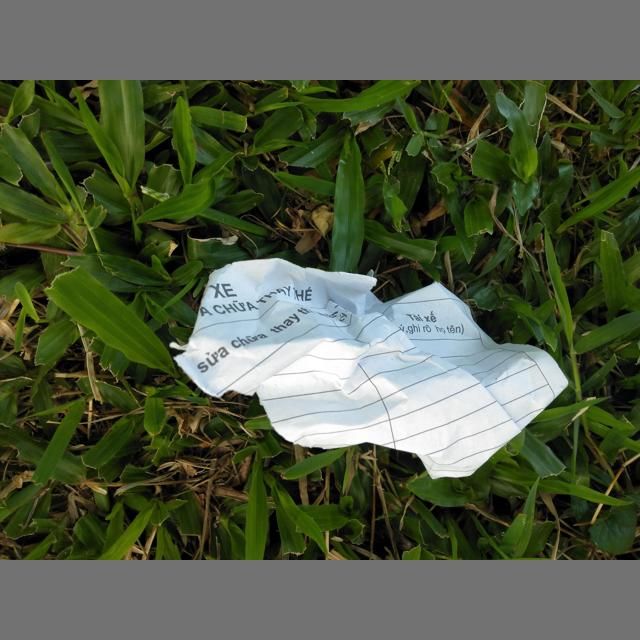litter: (174, 260, 567, 477)
